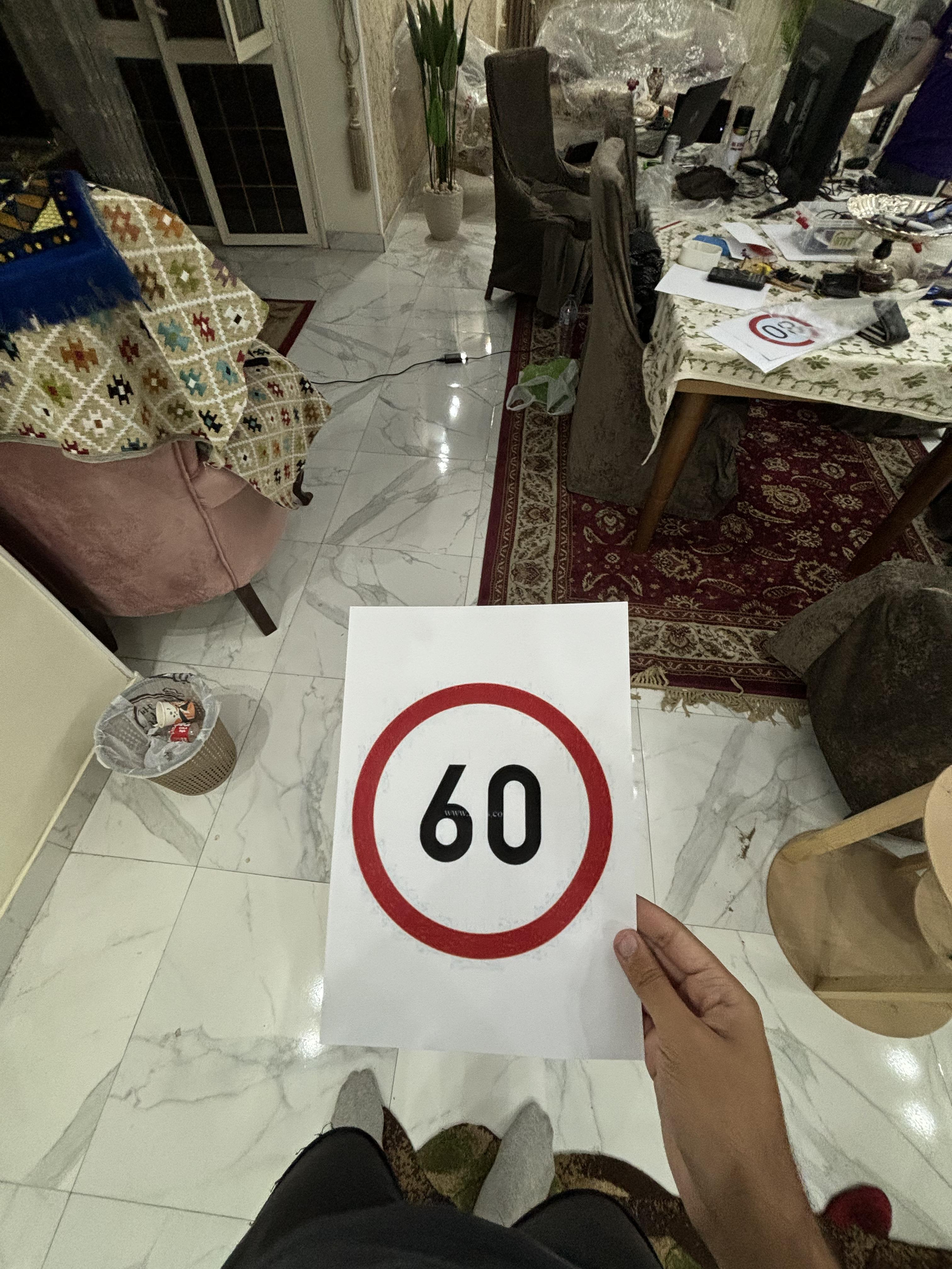60-Speed: (353, 674, 624, 961)
